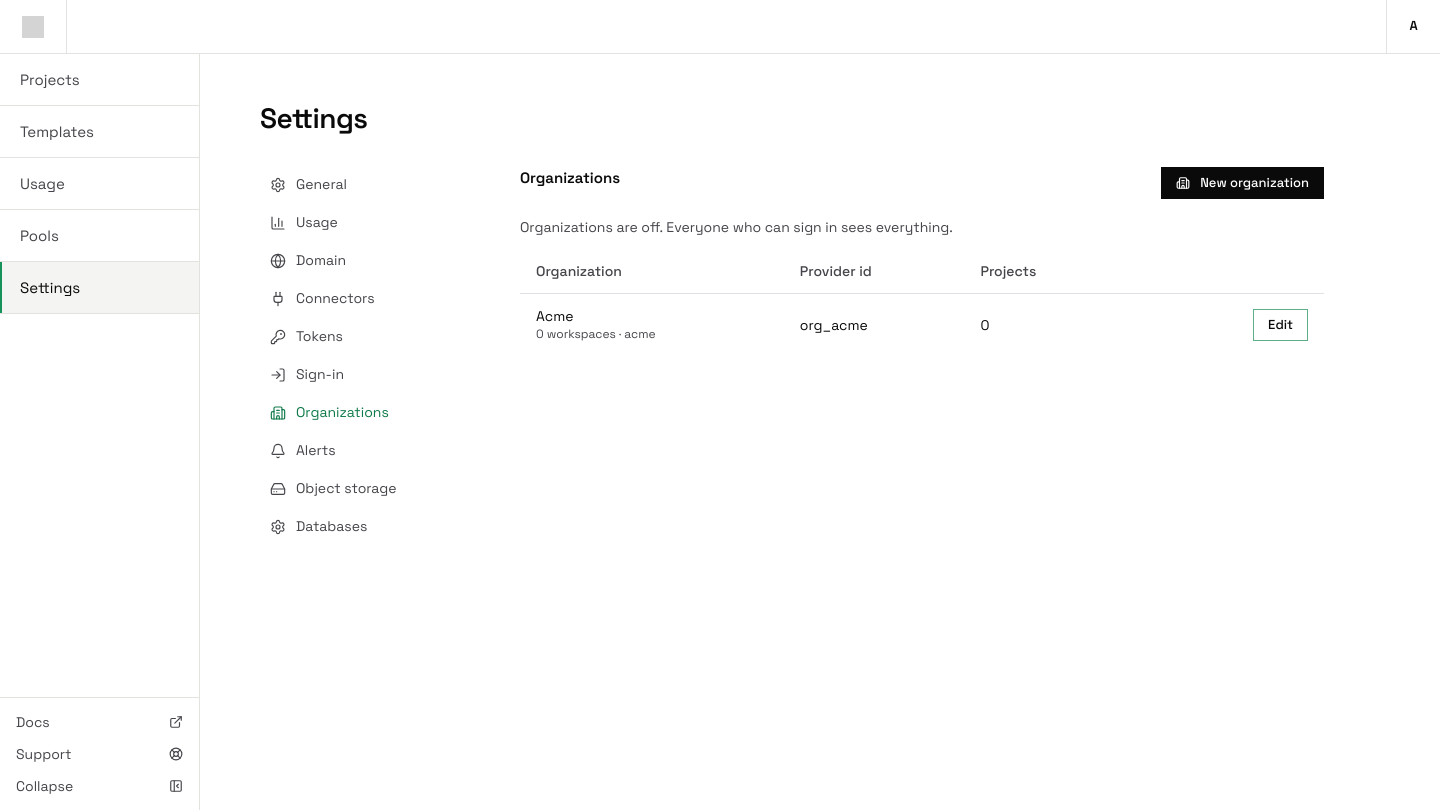
it: Organizations › lets an organization's own sign-in provider be set up when nothing is managed
The width and height of the screenshot is (1440, 810).
Click the button with aria-label "Edit Acme". click: (1281, 325)
box: 1253,309 -> 1308,341
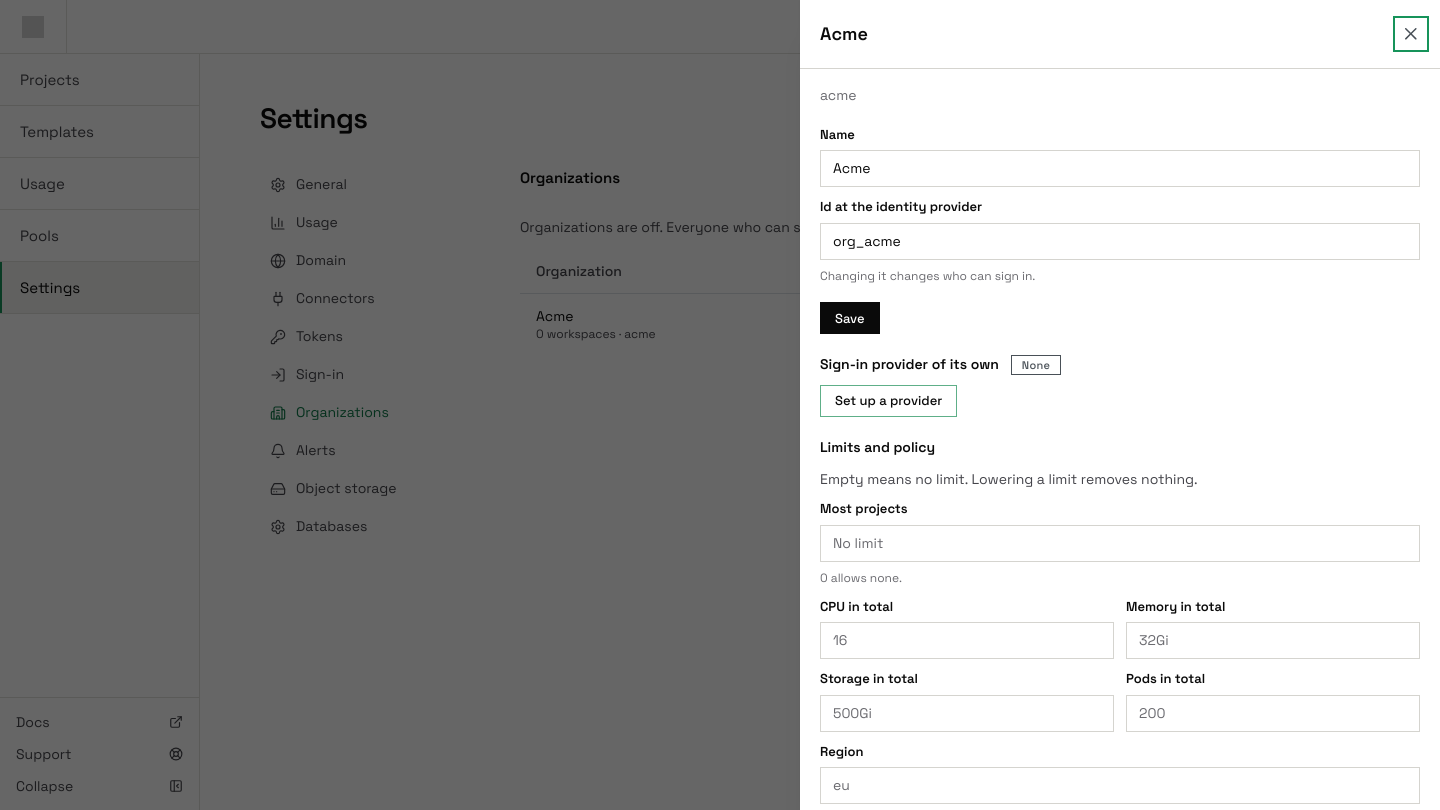
Expected: the text "Sign-in provider of its own" is shown, 820,354 -> 999,375
